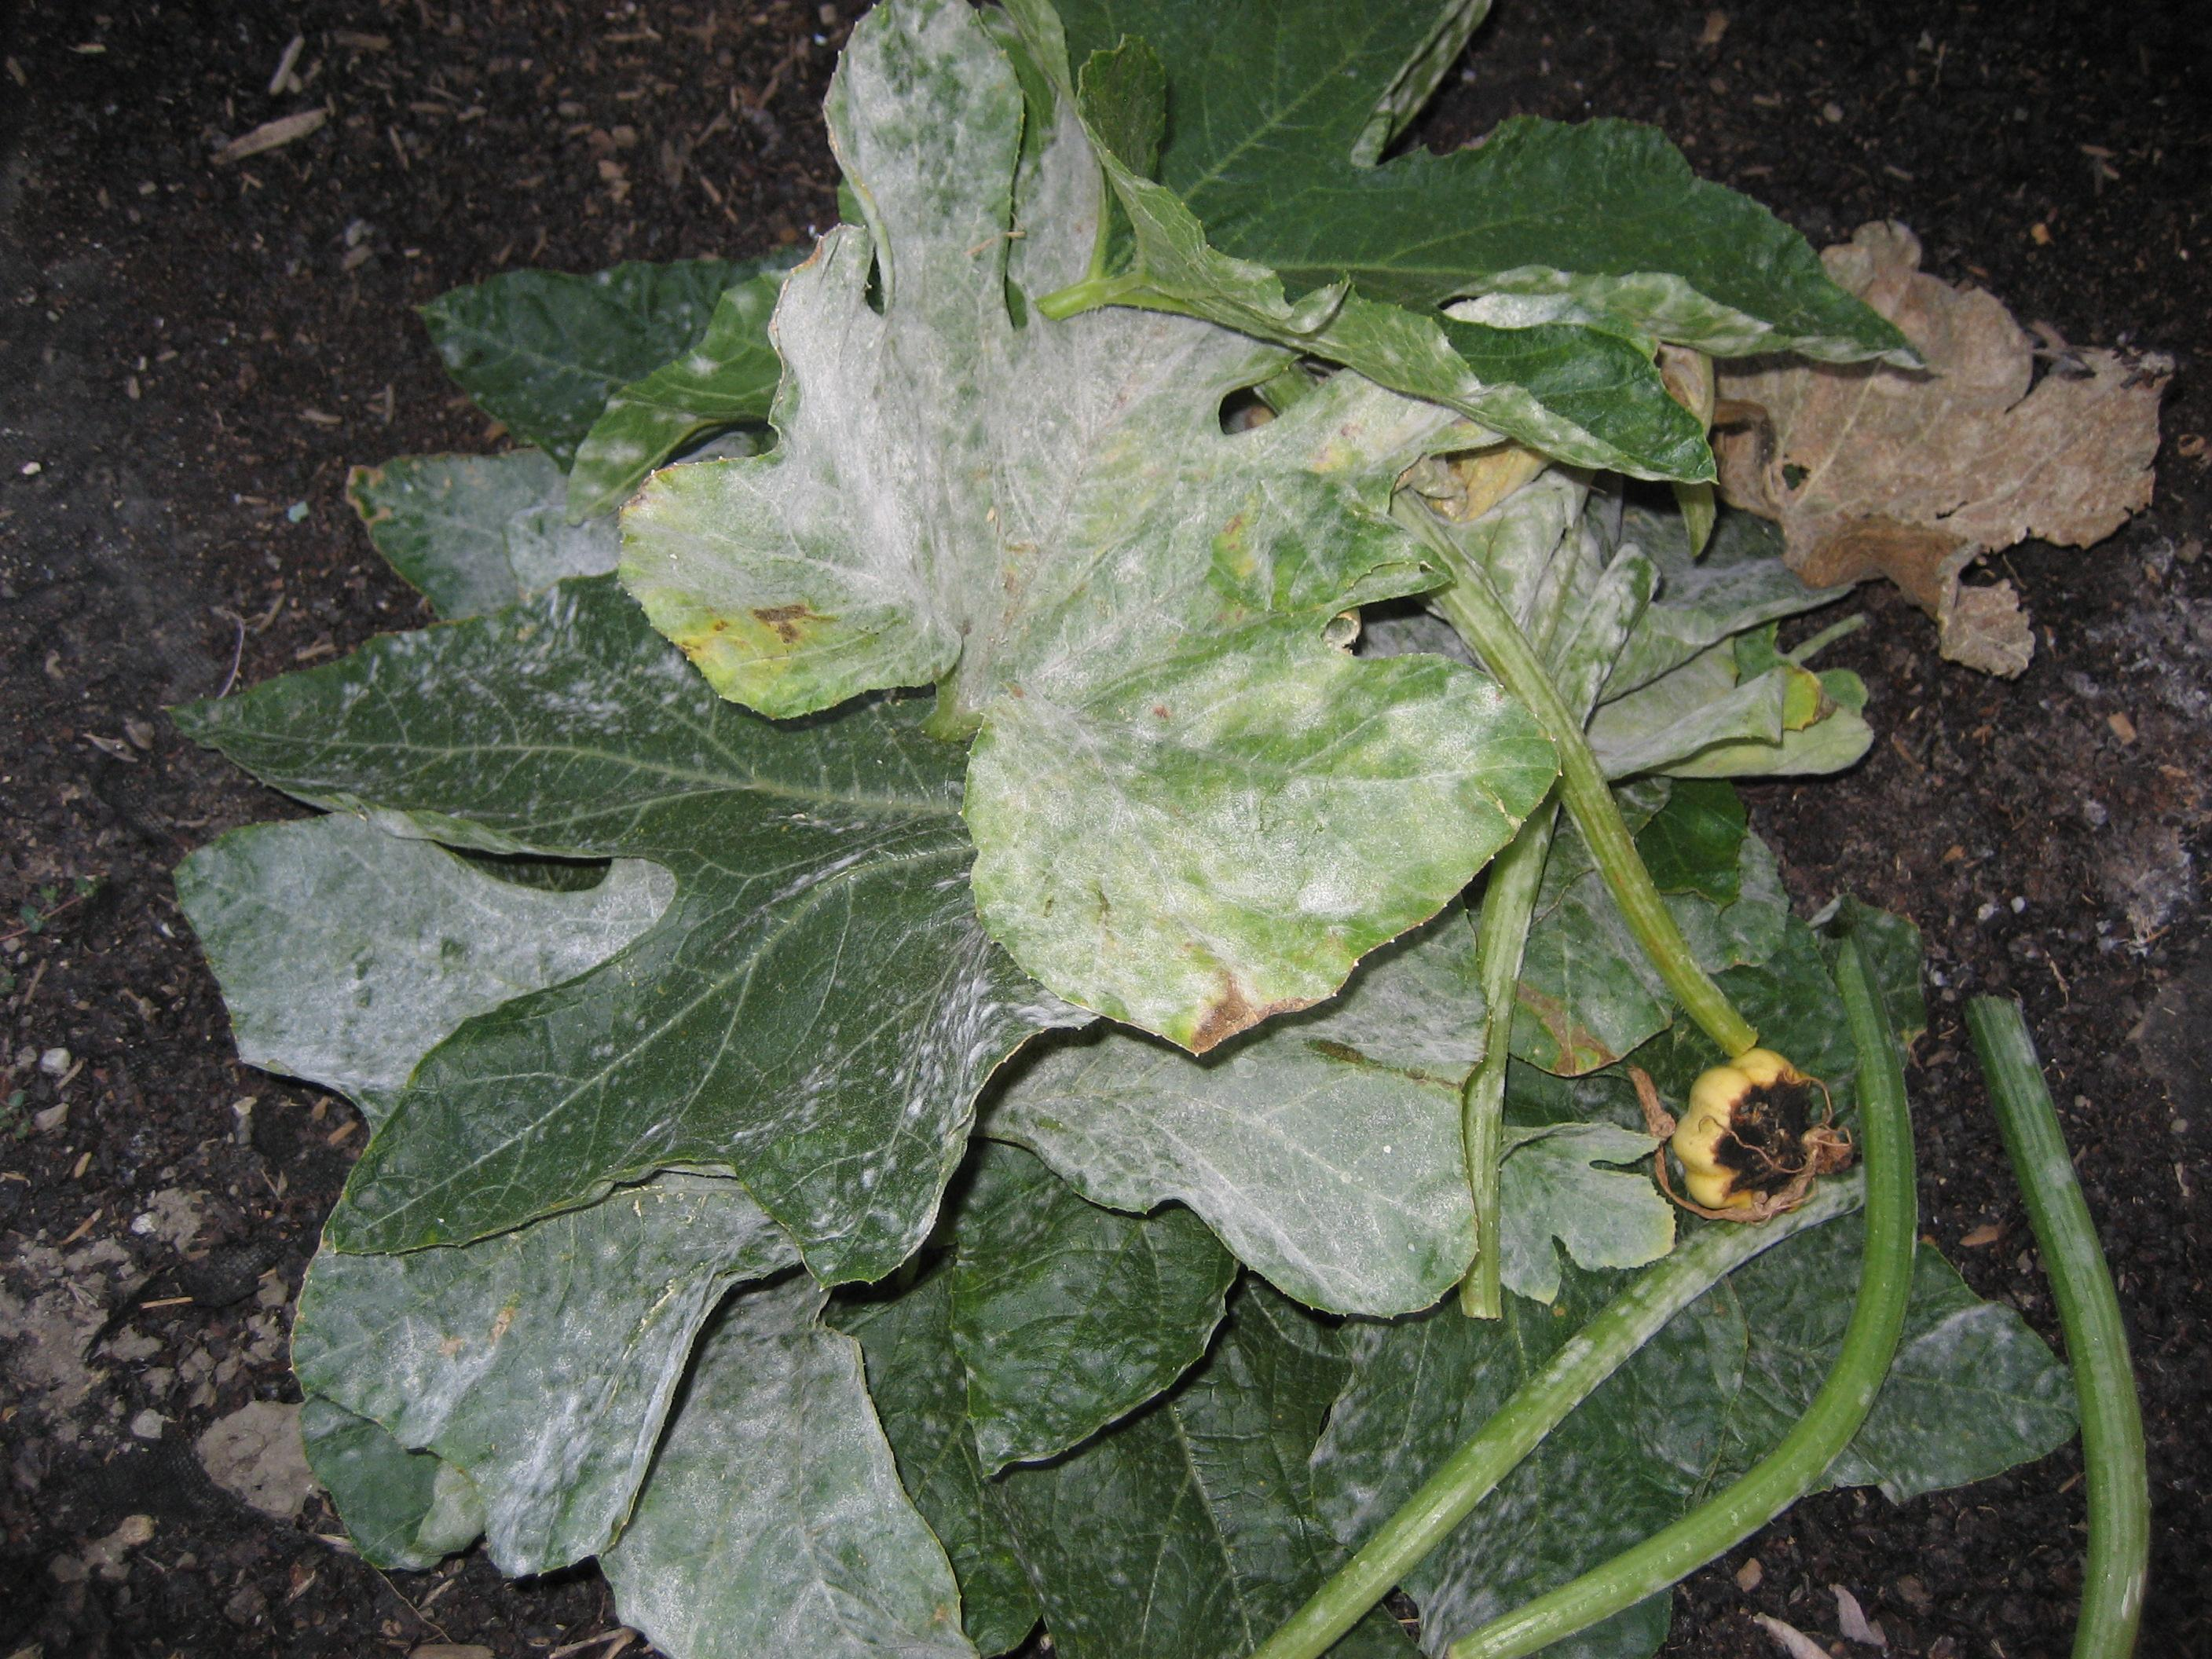Squash Powdery mildew leaf: (575, 0, 1634, 1060), (300, 1004, 906, 1659), (979, 887, 1700, 1310), (178, 784, 768, 1175)
